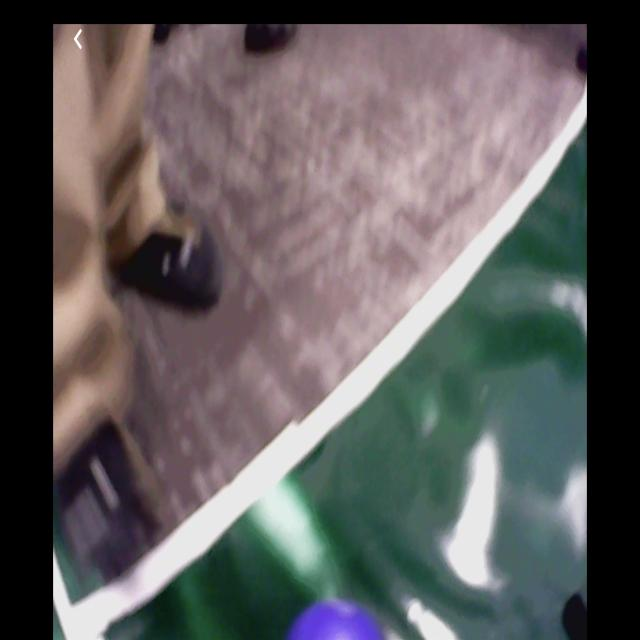ball: (288, 599, 389, 640)
